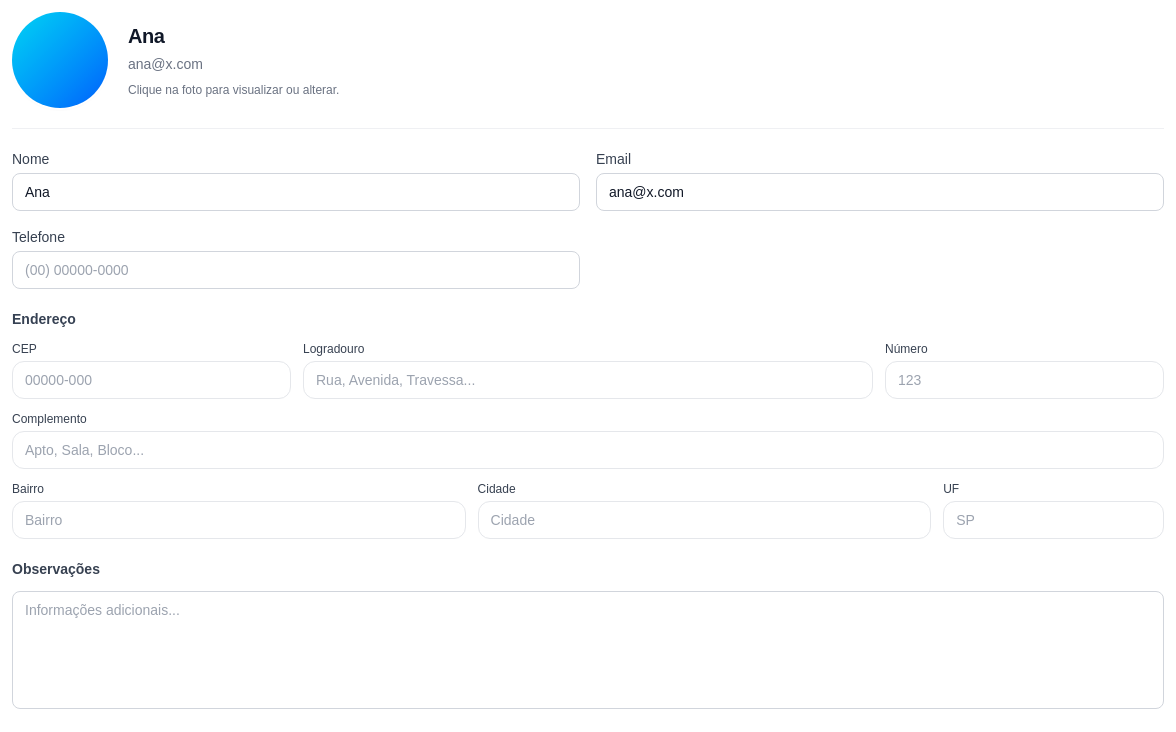
ProfileForm › formata o telefone e acusa número inválido ao sair do campo
Step 1. Type "1133" into the field labelled "Telefone" → (296, 270), box [12,251,580,289]
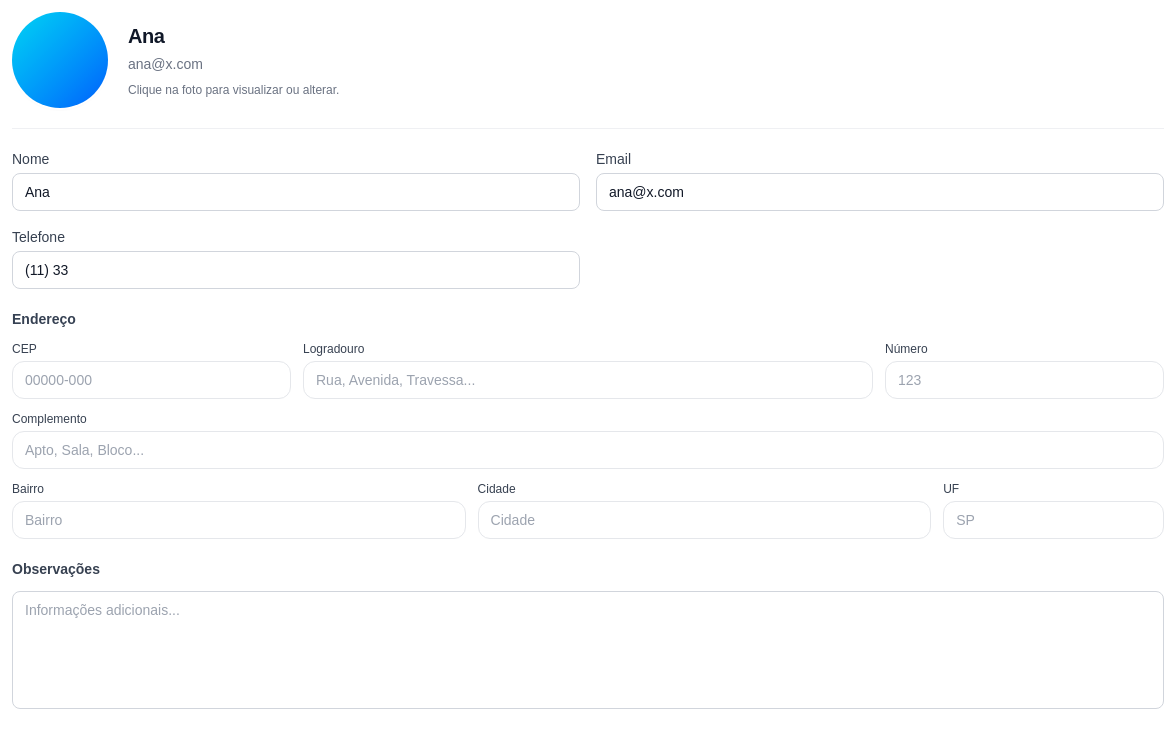
Result: the field labelled "Telefone" holds "(11) 33"
Step 2. Leave the field labelled "Telefone", box [12,251,580,289]
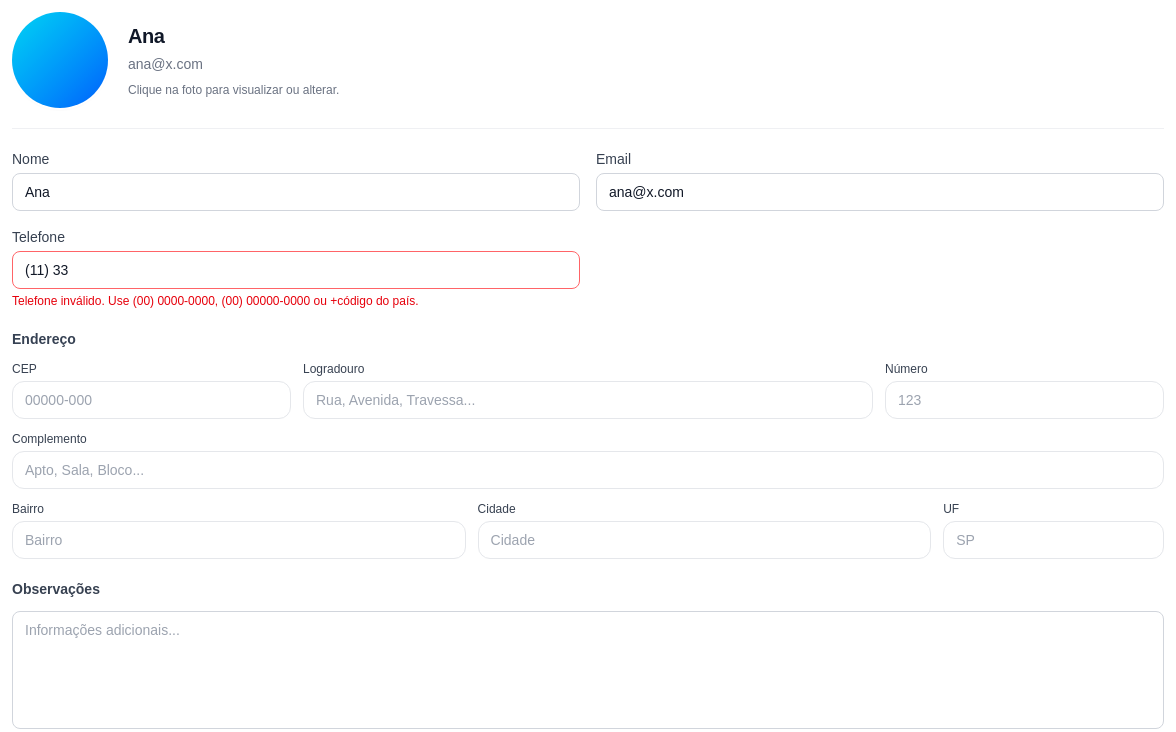
Result: the text "Telefone inválido" is shown at [12,294,419,308]
Step 3. Replace the text in the field labelled "Telefone" with "1133334444" → (296, 270), box [12,251,580,289]
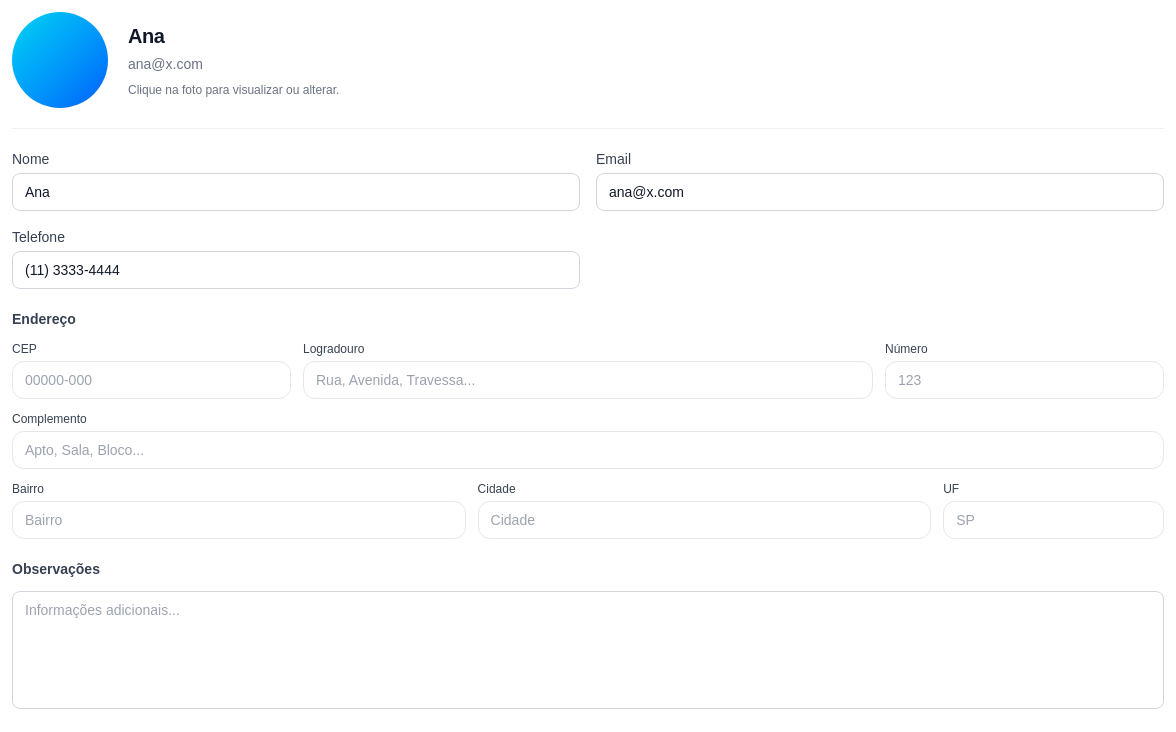
Result: the field labelled "Telefone" holds "(11) 3333-4444" at [12,251,580,289]
Result: the text "Telefone inválido" is gone
